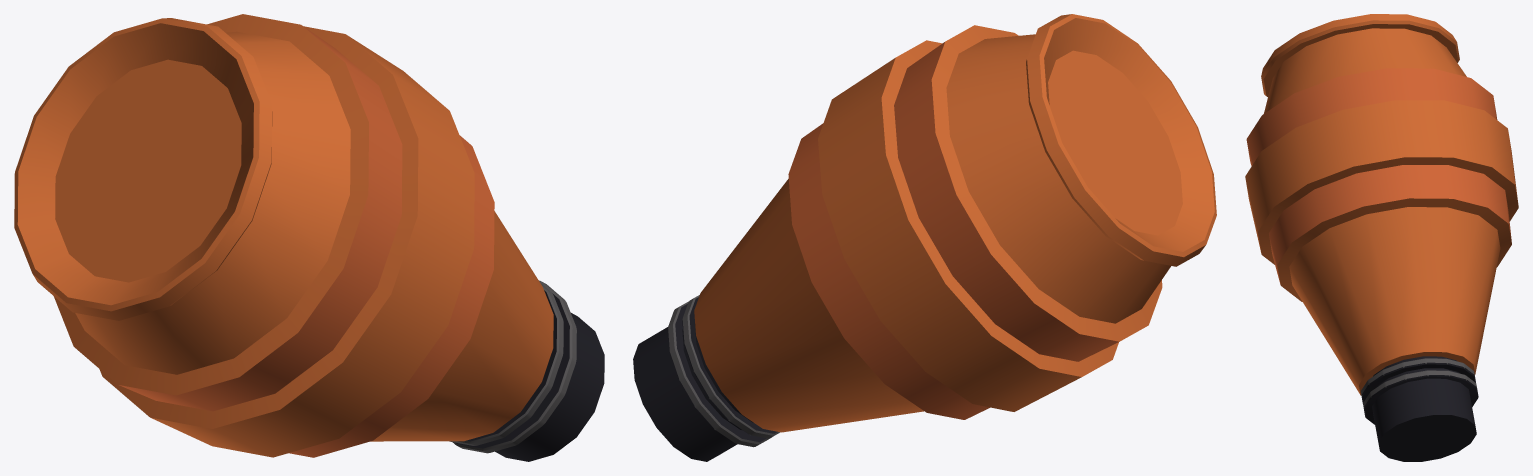
File: r_hand.glb
3 renders of one model, left to right at view 1: azimuth 30°, elevation 25°; view 2: azimuth 150°, elevation 25°; view 3: azimuth 270°, elevation 25°, orthographic. The views are drawn at different scales.
Visible parts, largest first — view 1: r_hand; view 2: r_hand; view 3: r_hand.
Boxes of the visible parts, left/top/right/bottom form: r_hand: left=14, top=14, right=604, bottom=461; r_hand: left=633, top=14, right=1216, bottom=461; r_hand: left=1245, top=14, right=1518, bottom=461.
Size of the model in its own units: 1.11 by 0.9852 by 0.7112.
